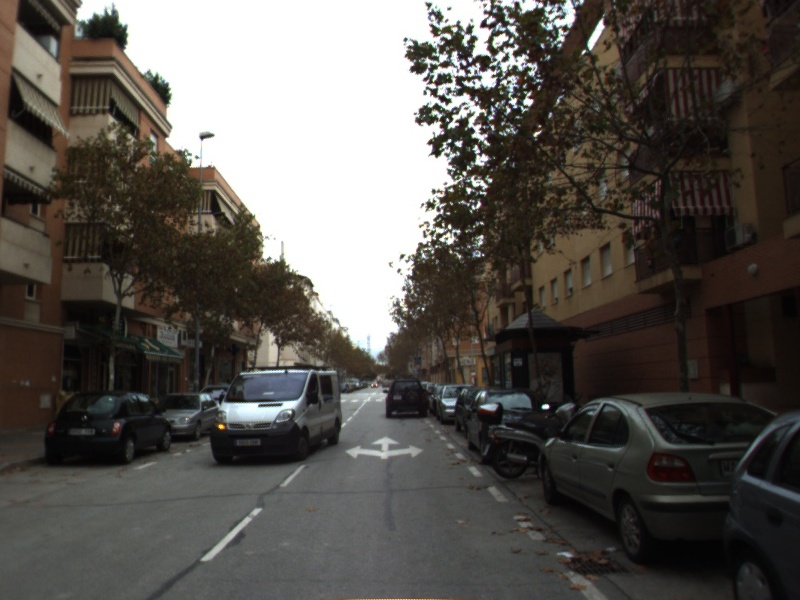STRAIGHT_LEFT_RIGHT: (343, 434, 426, 461)
